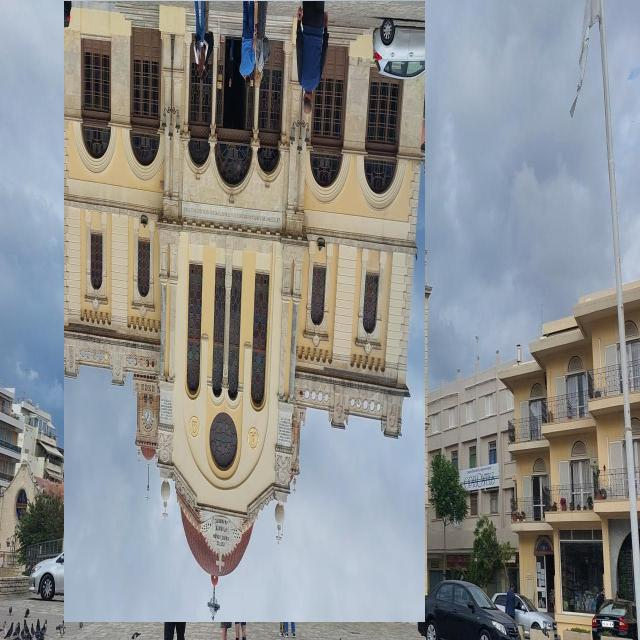Agios Minas: (65, 2, 426, 623)
